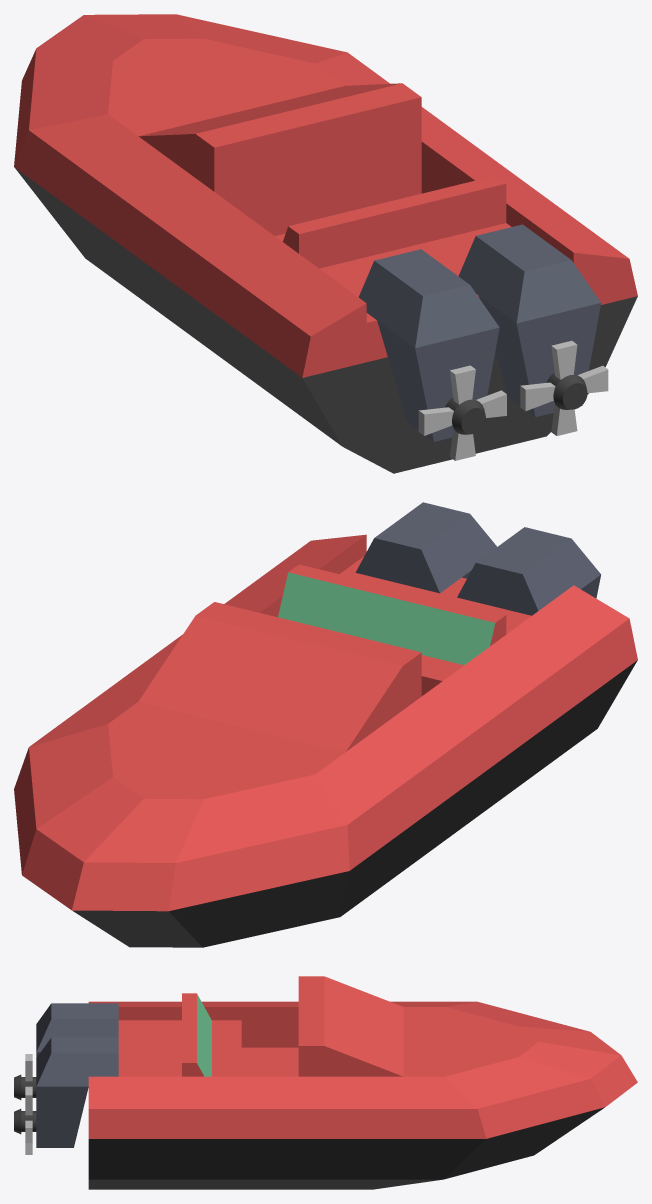
Rendered from boat_019.fbx.
The picture shows the model from 3 angles, top to bottom: view 1: azimuth 30°, elevation 25°; view 2: azimuth 150°, elevation 25°; view 3: azimuth 270°, elevation 25°; orthographic projection. The views are drawn at different scales.
Parts seen in each view (by area): view 1: boat_019, Group (×4); view 2: boat_019, Group (×2); view 3: boat_019, Group (×3).
Part boxes in pixels (x1=…): boat_019: x1=14, y1=14, x2=637, y2=473; Group (×4): x1=358, y1=224, x2=608, y2=460; boat_019: x1=14, y1=534, x2=637, y2=947; Group (×2): x1=355, y1=502, x2=601, y2=615; boat_019: x1=88, y1=976, x2=637, y2=1189; Group (×3): x1=14, y1=1003, x2=118, y2=1154.
Bounding box in the file's own units: 17.85 × 11.25 × 41.7.
